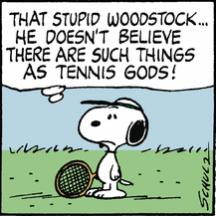snoopy: (54, 97, 150, 200)
